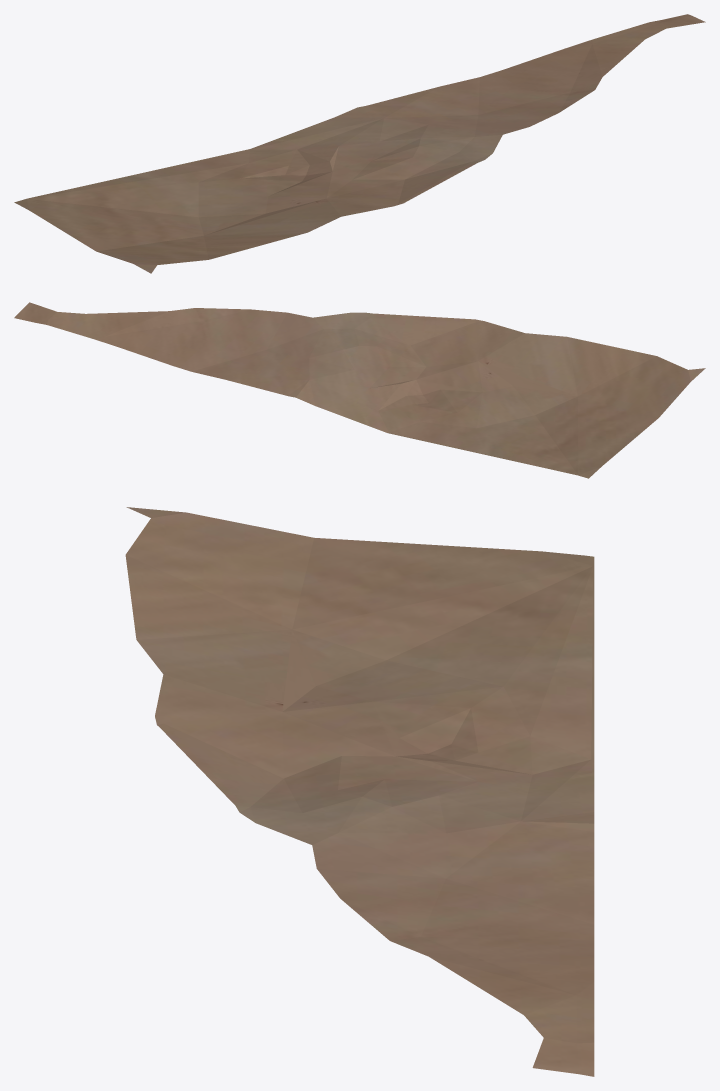
The picture shows the model from 3 angles, top to bottom: view 1: azimuth 30°, elevation 25°; view 2: azimuth 150°, elevation 25°; view 3: azimuth 270°, elevation 25°; orthographic projection. The views are drawn at different scales.
Size of the model in its own units: 2.09 by 0.0986 by 0.7378.
Materials: 1 (1 with a texture image).
